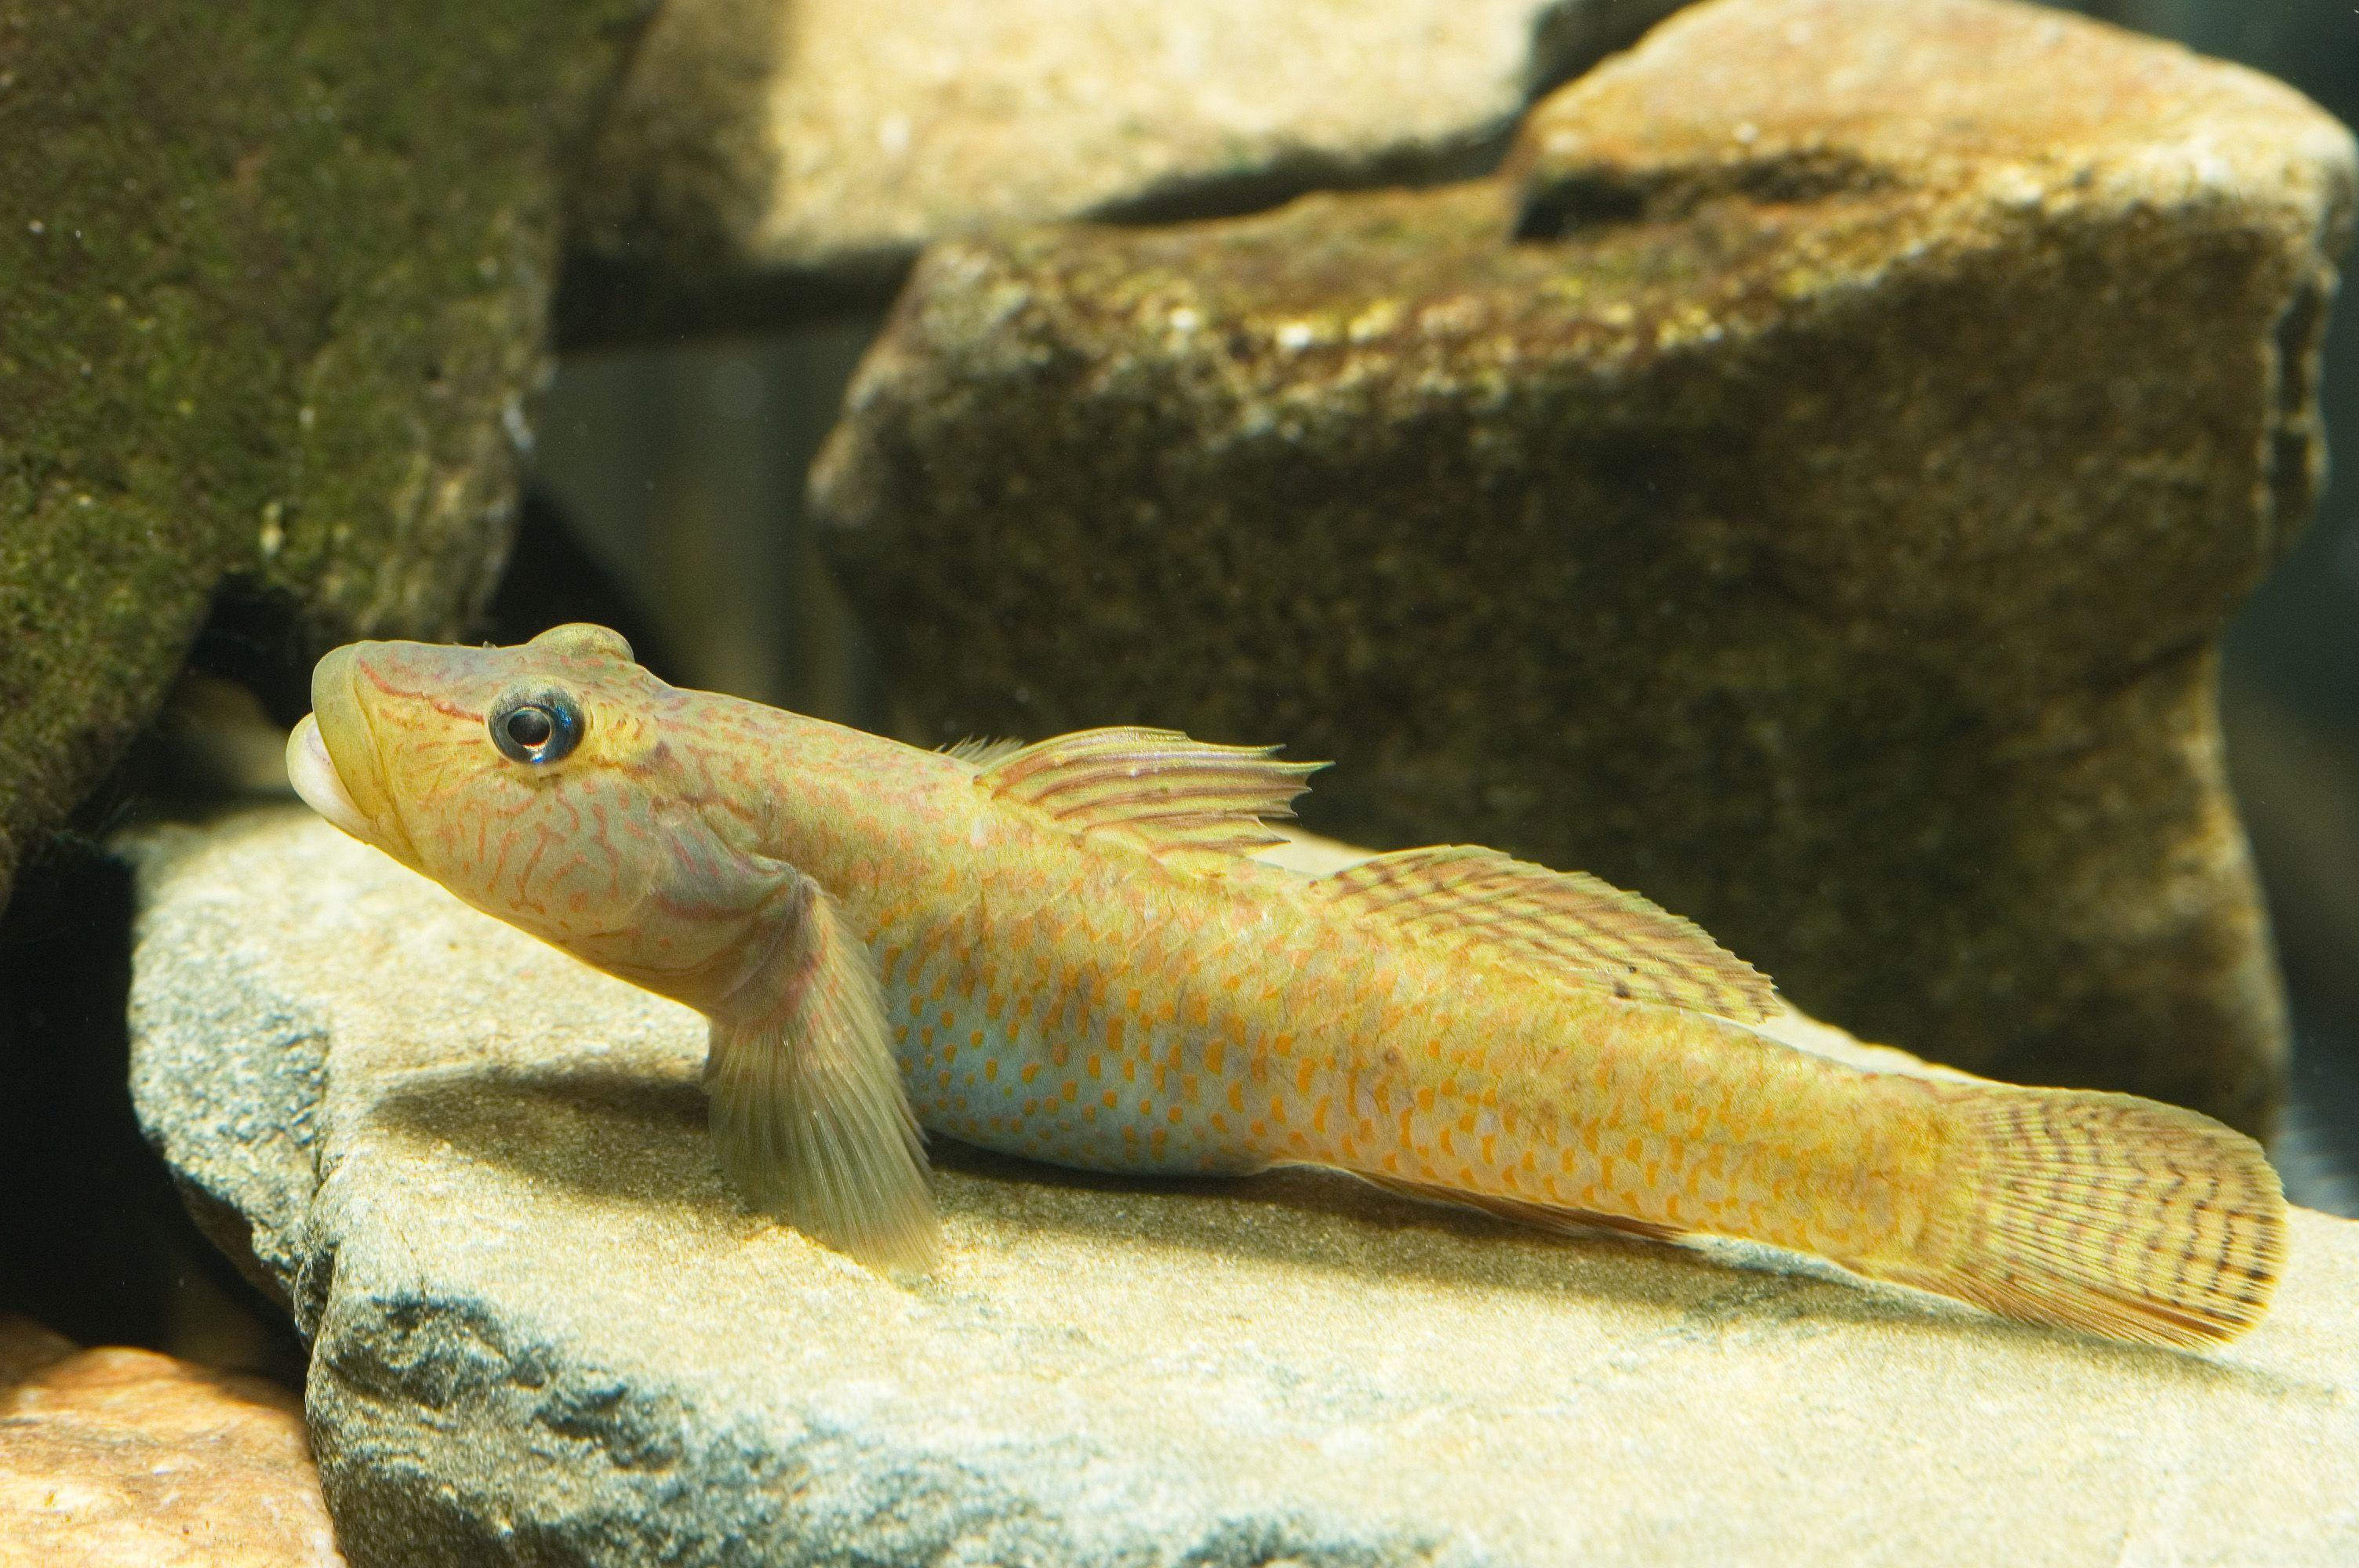Goby: (308, 619, 2285, 1369)
